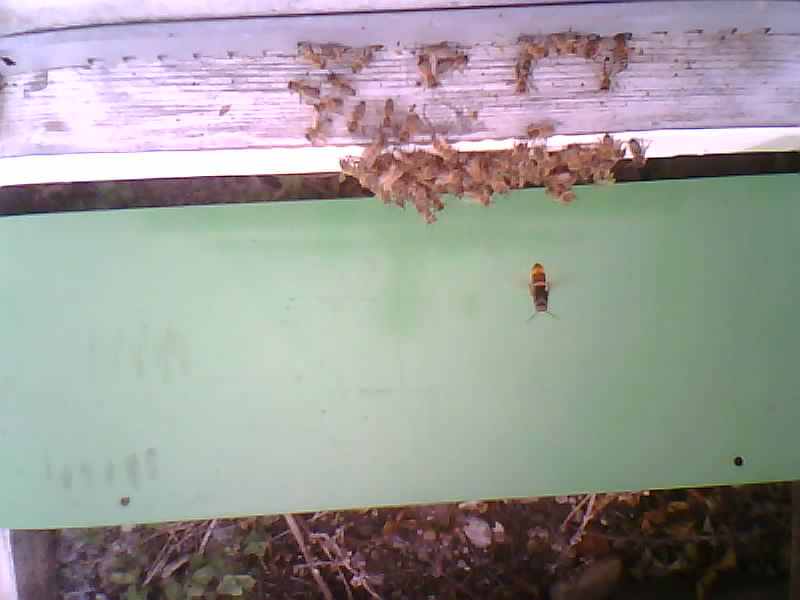bee: (336, 135, 655, 211), (516, 27, 638, 98), (295, 43, 382, 141), (412, 36, 470, 89)
hornet: (520, 258, 565, 323)
